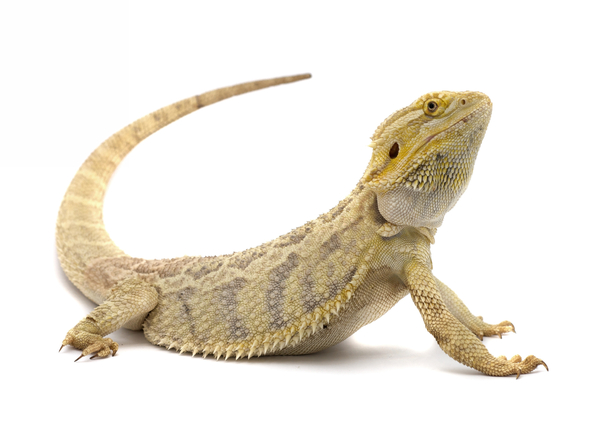bearded: (50, 70, 552, 387)
